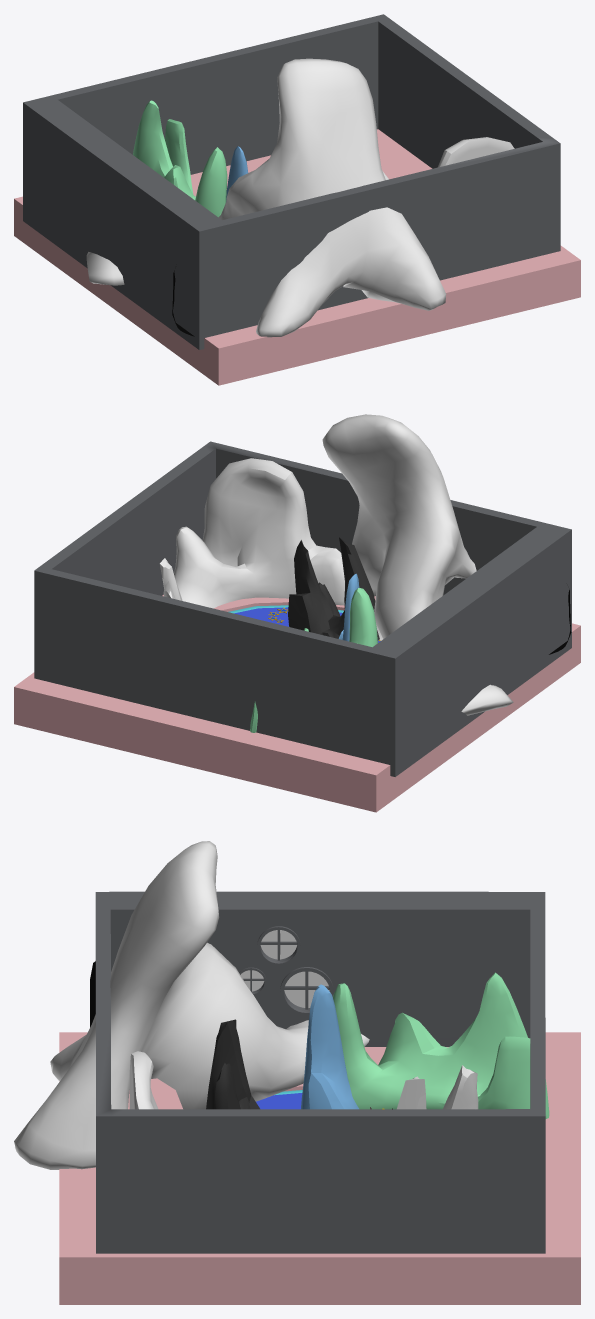
File: RitualRoom.fbx
The picture shows the model from 3 angles, top to bottom: view 1: azimuth 30°, elevation 25°; view 2: azimuth 150°, elevation 25°; view 3: azimuth 270°, elevation 25°; orthographic projection. The views are drawn at different scales.
Visible parts, largest first — view 1: RitualWorkRoom, Retopo_mesh.001, floor.001, Retopo_mesh.003, Retopo_mesh.002, Retopo_mesh.009; view 2: RitualWorkRoom, floor.001, Retopo_mesh.001, Retopo_mesh.002, Retopo_mesh.007, Retopo_mesh.003, Retopo_mesh.008, Retopo_mesh.009; view 3: RitualWorkRoom, floor.001, Retopo_mesh.001, Retopo_mesh.003, Retopo_mesh.009, Retopo_mesh.007, Retopo_mesh.008, Retopo_mesh.002.
Part boxes in pixels (left/top/right/bottom): RitualWorkRoom: left=23, top=14, right=560, bottom=349; Retopo_mesh.001: left=86, top=58, right=446, bottom=337; floor.001: left=14, top=129, right=580, bottom=385; Retopo_mesh.003: left=133, top=100, right=227, bottom=217; Retopo_mesh.002: left=437, top=137, right=514, bottom=167; Retopo_mesh.009: left=226, top=146, right=248, bottom=201; RitualWorkRoom: left=34, top=441, right=571, bottom=776; floor.001: left=14, top=594, right=580, bottom=812; Retopo_mesh.001: left=322, top=414, right=513, bottom=715; Retopo_mesh.002: left=174, top=458, right=344, bottom=608; Retopo_mesh.007: left=288, top=537, right=379, bottom=640; Retopo_mesh.003: left=250, top=588, right=377, bottom=732; Retopo_mesh.008: left=159, top=558, right=182, bottom=600; Retopo_mesh.009: left=338, top=573, right=359, bottom=641; RitualWorkRoom: left=95, top=891, right=545, bottom=1253; floor.001: left=59, top=1032, right=580, bottom=1304; Retopo_mesh.001: left=14, top=841, right=369, bottom=1169; Retopo_mesh.003: left=333, top=972, right=549, bottom=1118; Retopo_mesh.009: left=301, top=984, right=358, bottom=1109; Retopo_mesh.007: left=206, top=1019, right=259, bottom=1109; Retopo_mesh.008: left=397, top=1065, right=478, bottom=1109; Retopo_mesh.002: left=129, top=1051, right=158, bottom=1109.
Bounding box in the file's own units: 3630 × 2224 × 3559.
